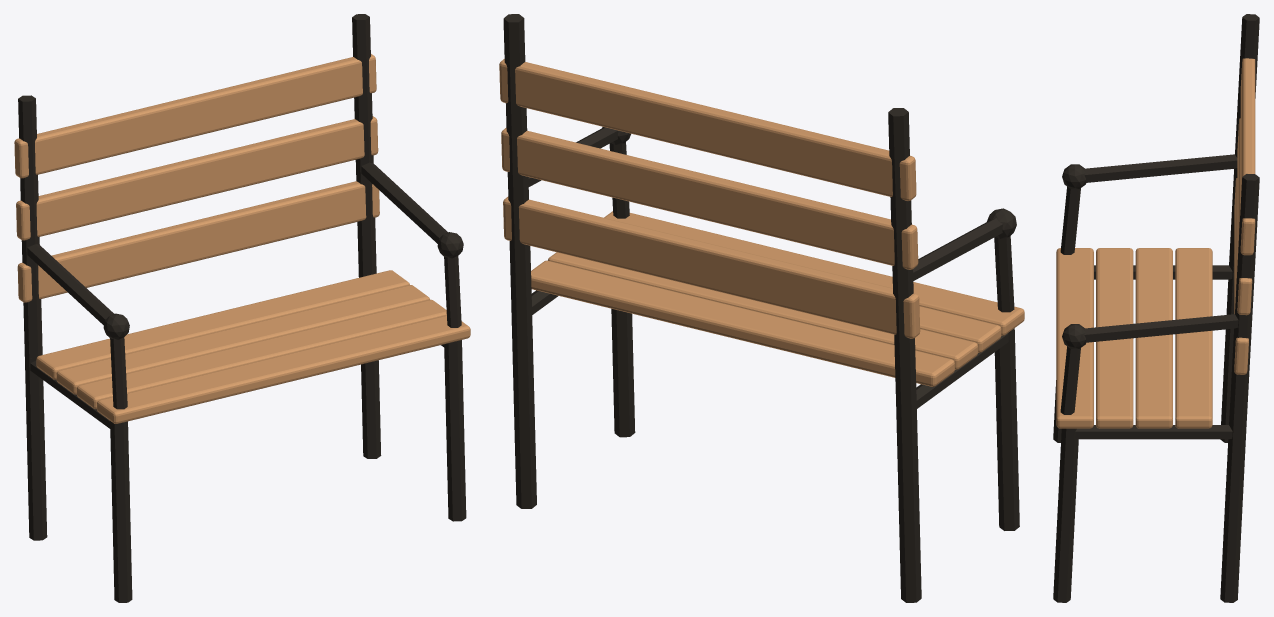
Rendered from bench.glb.
3 views of the same model, side by side, from view 1: azimuth 30°, elevation 25°; view 2: azimuth 150°, elevation 25°; view 3: azimuth 270°, elevation 25° (orthographic). The views are drawn at different scales.
Parts seen in each view (by area): view 1: bench; view 2: bench; view 3: bench.
Boxes of the visible parts, bbox=[...] form: bench: bbox=[14, 14, 470, 602]; bench: bbox=[499, 14, 1024, 602]; bench: bbox=[1053, 14, 1259, 602].
Size of the model in its own units: 0.92 by 1.06 by 0.47.
